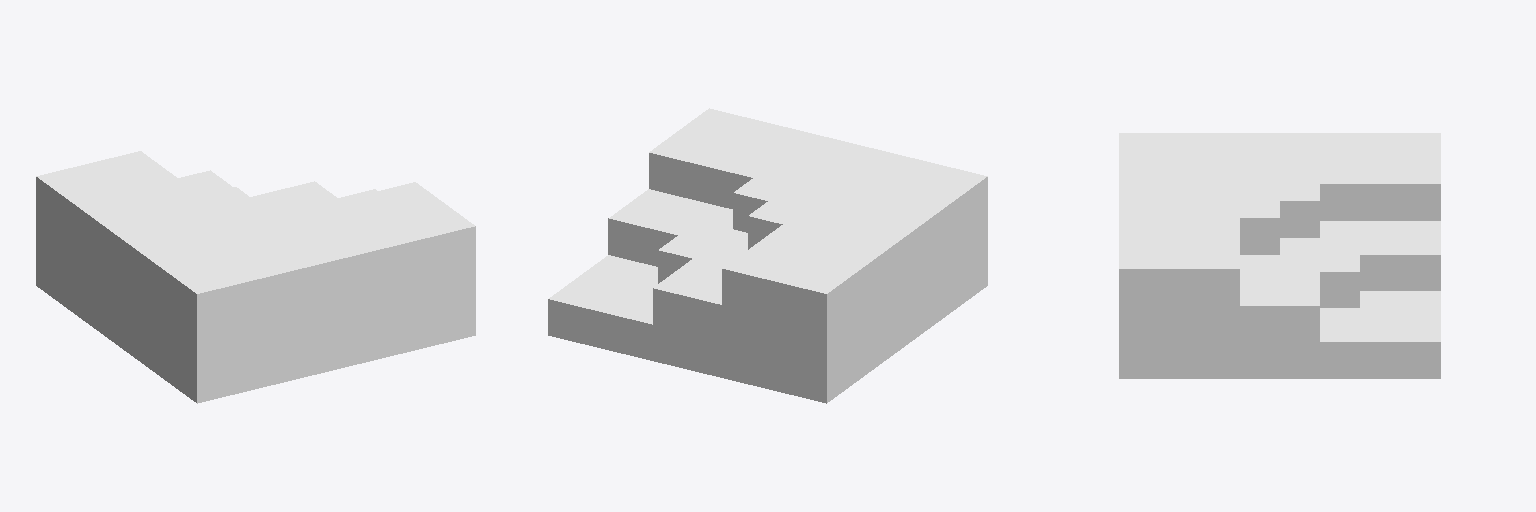
The model's file is beach_turn_270.obj.
3 renders of one model, left to right at view 1: azimuth 30°, elevation 25°; view 2: azimuth 150°, elevation 25°; view 3: azimuth 270°, elevation 25°, orthographic.
Parts seen in each view (by area): view 1: object 1; view 2: object 1; view 3: object 1.
Part boxes in pixels (bbox=[...]): object 1: bbox=[36, 151, 475, 403]; object 1: bbox=[548, 108, 987, 403]; object 1: bbox=[1119, 133, 1440, 378].
Bounding box in the file's own units: 0.8 × 0.3 × 0.8.